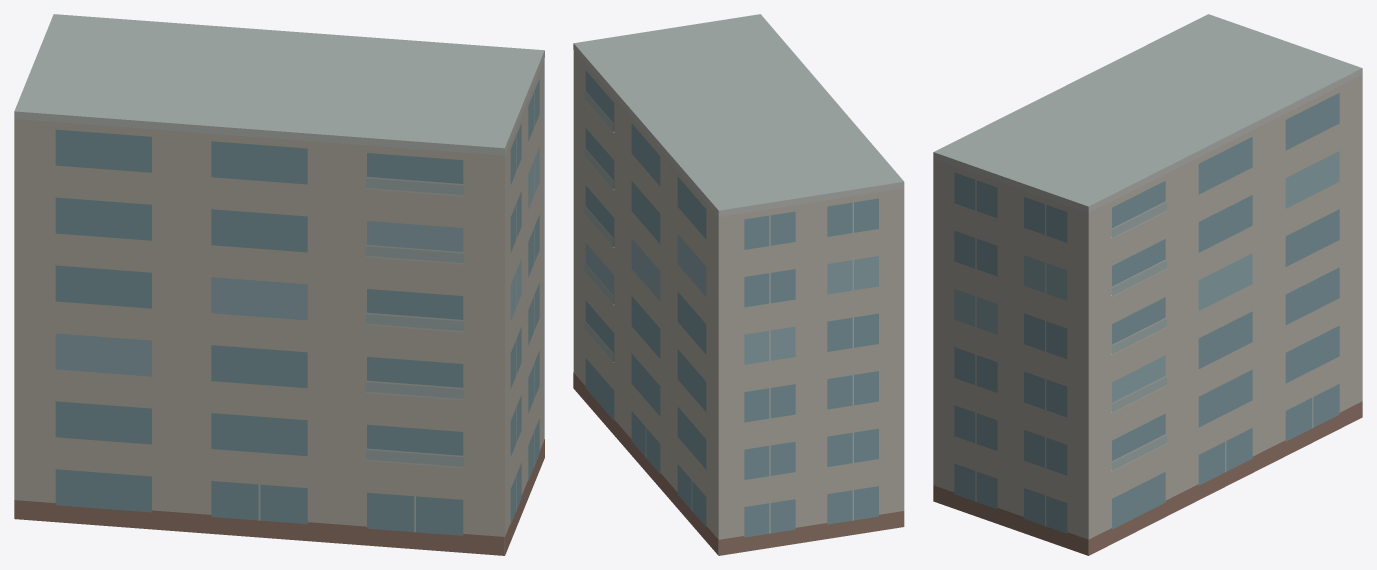
Rendered from survey-upis-32824732.glb.
The picture shows the model from 3 angles, left to right: view 1: azimuth 30°, elevation 25°; view 2: azimuth 150°, elevation 25°; view 3: azimuth 270°, elevation 25°; orthographic projection. The views are drawn at different scales.
Parts seen in each view (by area): view 1: survey-upis-32824732.tmp; view 2: survey-upis-32824732.tmp; view 3: survey-upis-32824732.tmp.
Part boxes in pixels (x1=…): survey-upis-32824732.tmp: x1=14, y1=14, x2=544, y2=555; survey-upis-32824732.tmp: x1=573, y1=14, x2=904, y2=555; survey-upis-32824732.tmp: x1=933, y1=14, x2=1362, y2=555.
Bounding box in the file's own units: 15.56 × 13.15 × 14.65.
